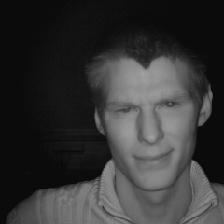happy: (74, 26, 221, 196)
